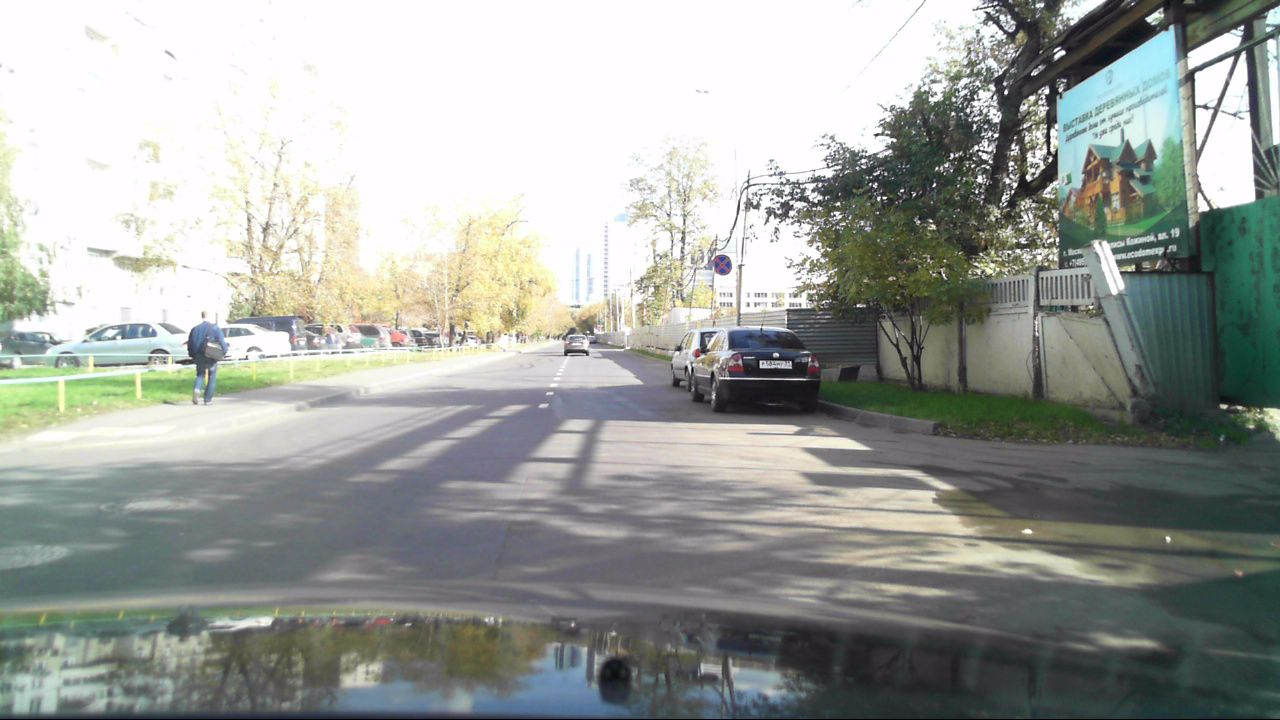No Parking: (711, 252, 732, 275)
